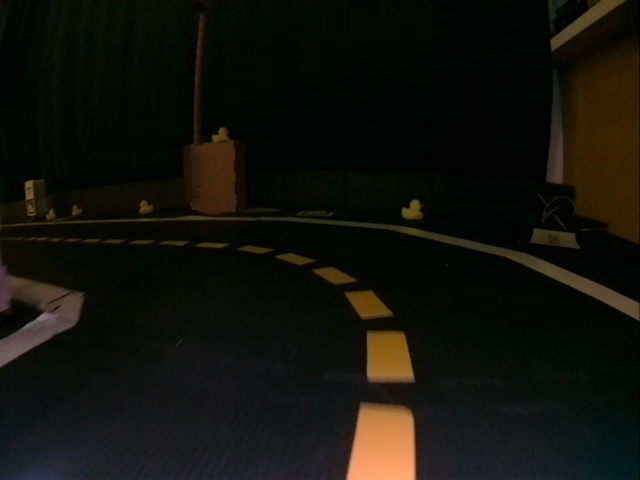Duckie: (402, 200, 422, 220), (212, 127, 229, 142), (139, 200, 154, 215), (71, 205, 82, 215), (46, 209, 55, 221)
Intersection sign: (25, 182, 34, 198)
QR code: (298, 208, 334, 217), (26, 199, 35, 215)
